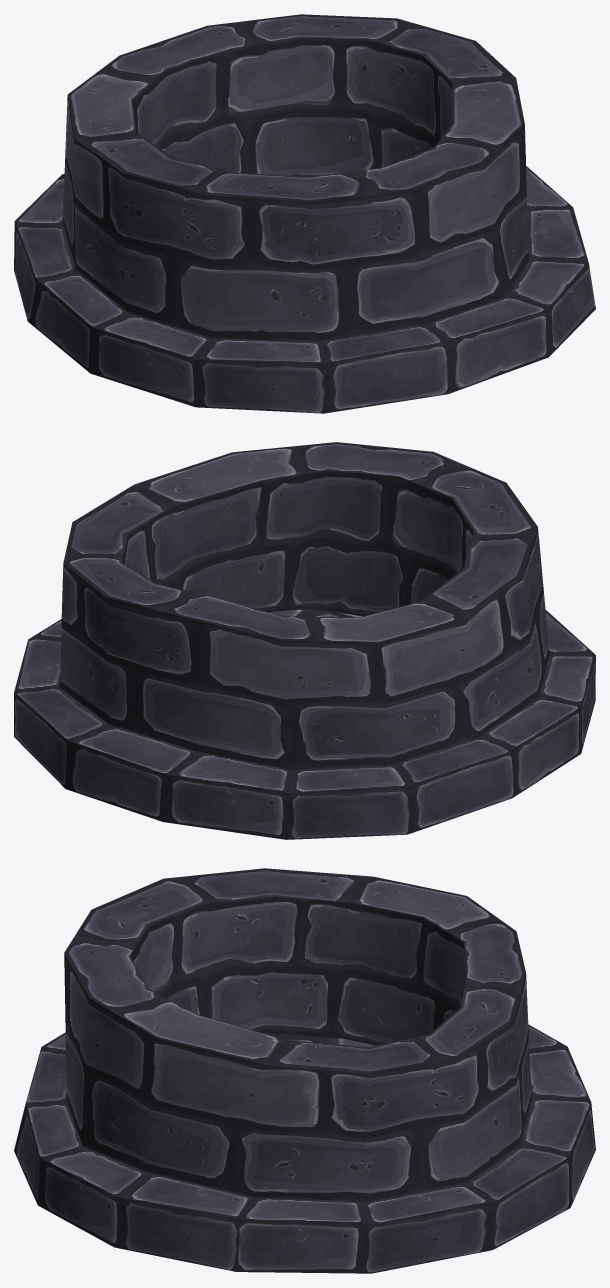
The model's file is SM_PROP_well_dungeon_02.fbx.
3 views of the same model, one above another, from view 1: azimuth 30°, elevation 25°; view 2: azimuth 150°, elevation 25°; view 3: azimuth 270°, elevation 25° (orthographic). The views are drawn at different scales.
Parts seen in each view (by area): view 1: SM_PROP_well_dungeon_02; view 2: SM_PROP_well_dungeon_02; view 3: SM_PROP_well_dungeon_02.
Part boxes in pixels (x1,y1,x2,y2): SM_PROP_well_dungeon_02: (14,14,595,413); SM_PROP_well_dungeon_02: (14,442,595,839); SM_PROP_well_dungeon_02: (14,868,595,1273).
Size of the model in its own units: 251 by 92.5 by 252.
